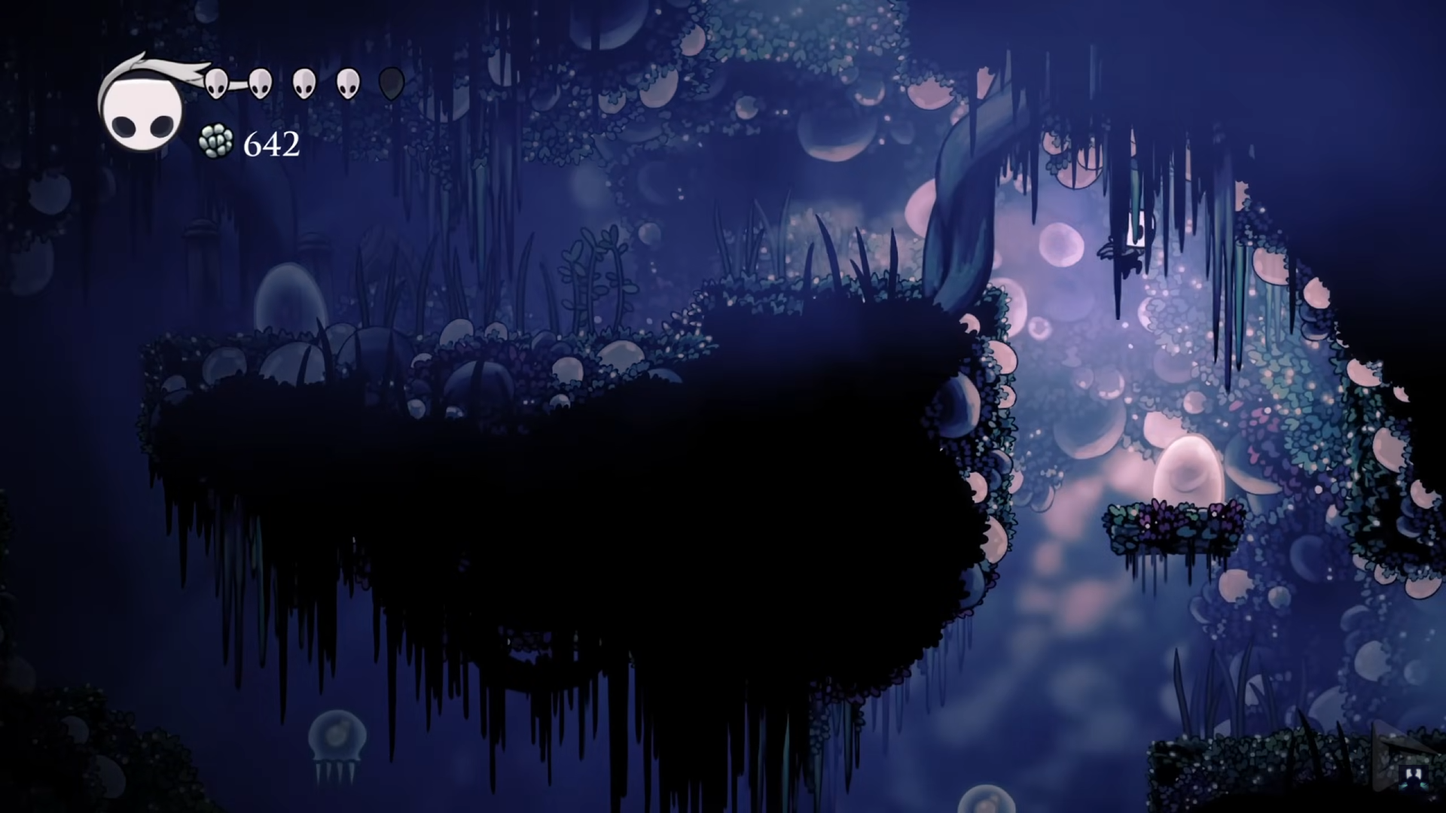HK: (1096, 199, 1157, 285)
